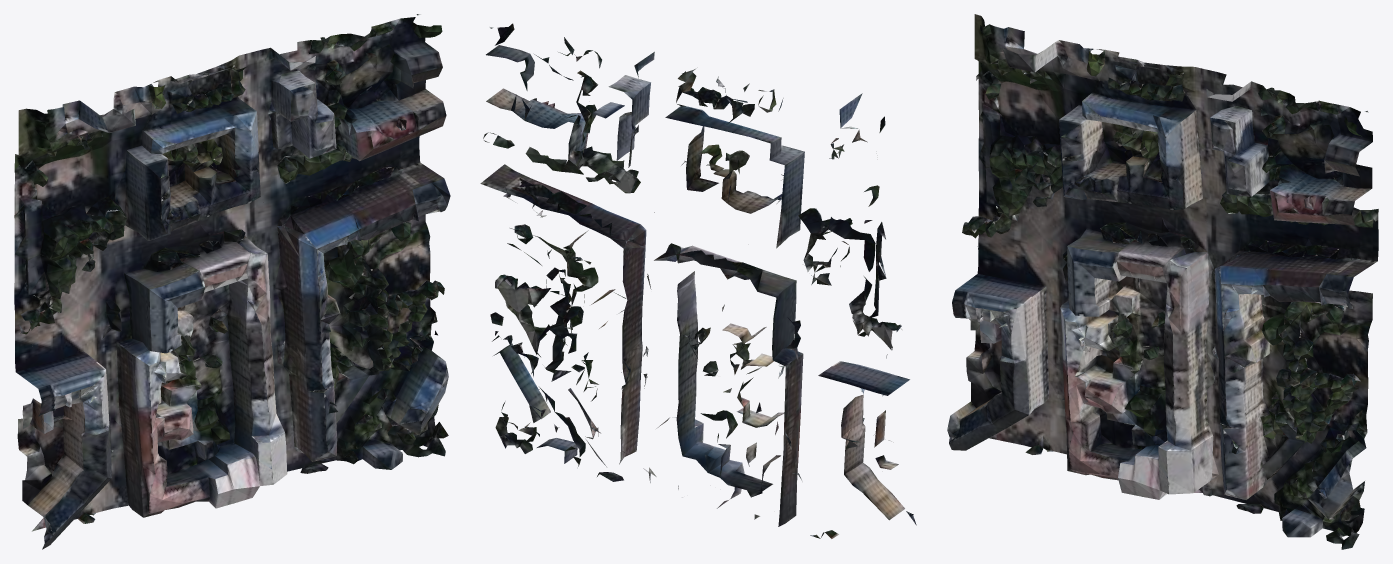
The model's file is Tile_+036_+028_L16_000.glb.
The picture shows the model from 3 angles, left to right: view 1: azimuth 30°, elevation 25°; view 2: azimuth 150°, elevation 25°; view 3: azimuth 330°, elevation 25°; orthographic projection.
Bounding box in the file's own units: 250 × 250 × 37.27.
1 material, 1 textured.
